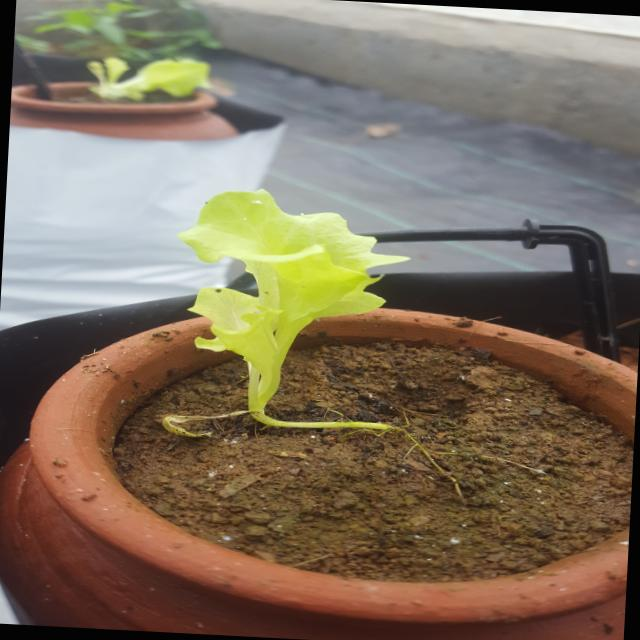Lettuce-Not-Ready-to-Harvest: (168, 177, 395, 432)
